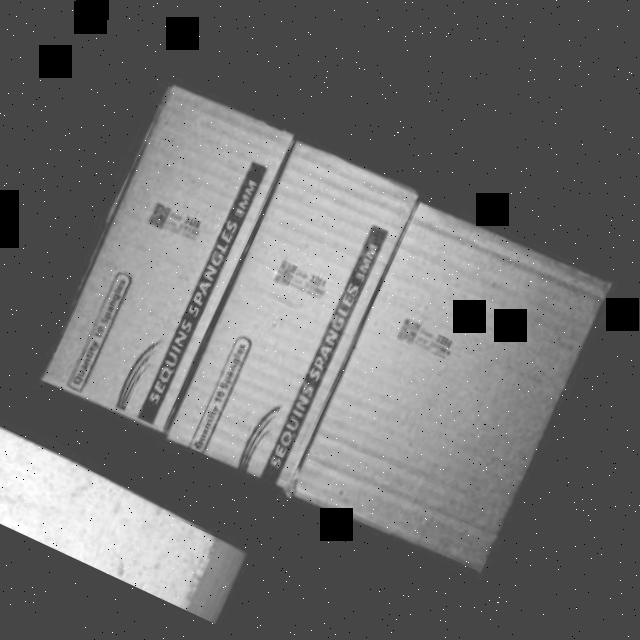box: (292, 200, 616, 572), (162, 141, 426, 504), (37, 79, 300, 430)
